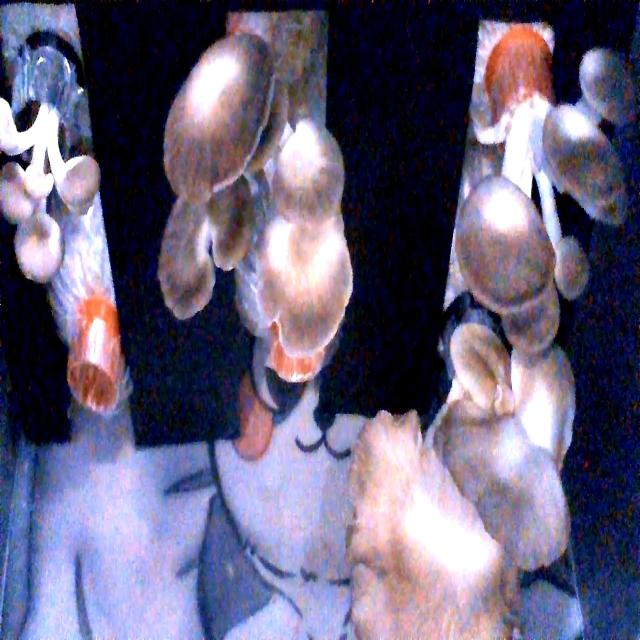big: (155, 40, 355, 381), (451, 51, 636, 407), (349, 394, 570, 640)
nfound: (265, 323, 334, 396), (58, 354, 126, 427)
small: (0, 99, 100, 289)
